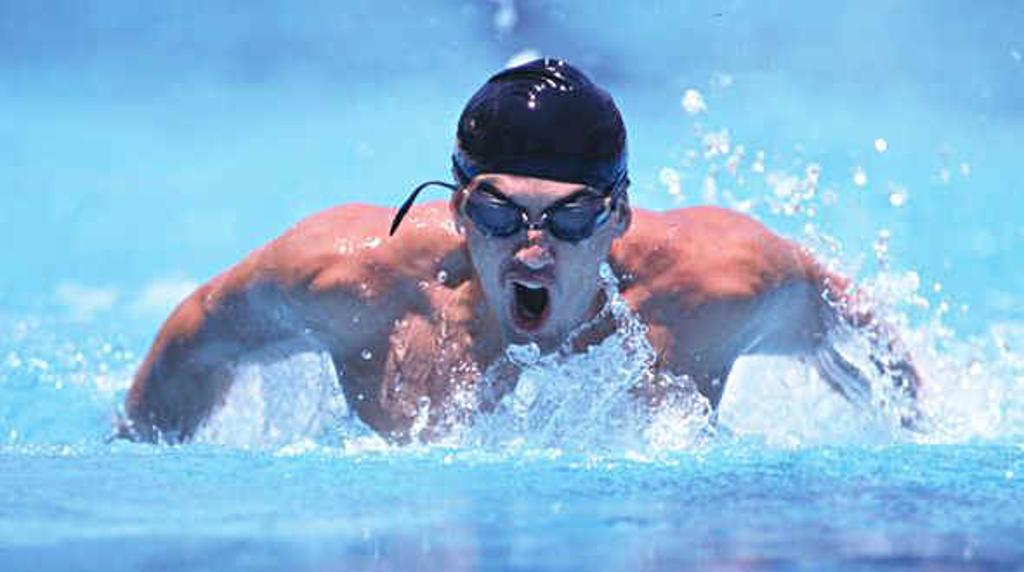face: (470, 174, 608, 356)
